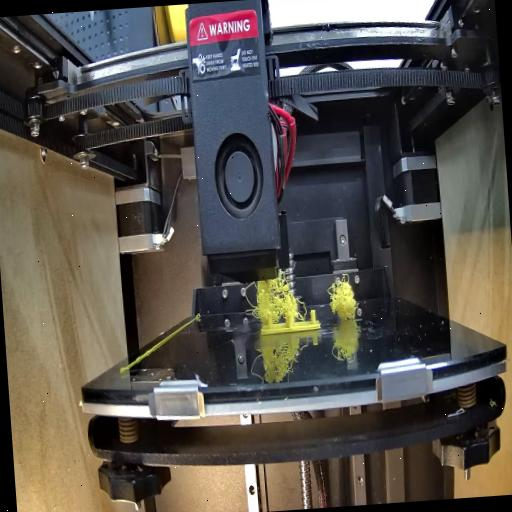spaghetti: (244, 267, 306, 323), (324, 270, 362, 325)
